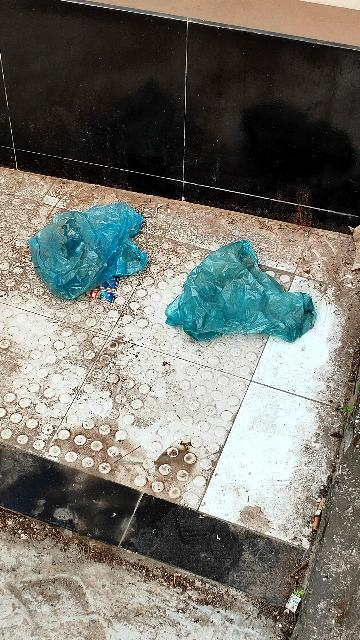polythene: (174, 229, 318, 348), (31, 195, 141, 301)
